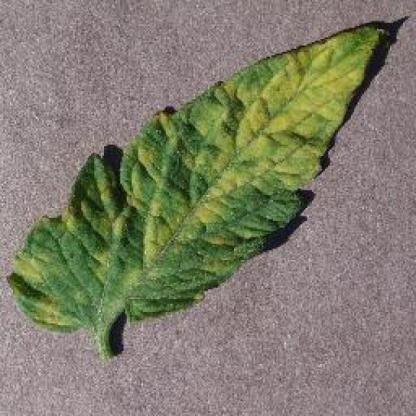Tomato_Leaf_Mold: (12, 29, 382, 333)
